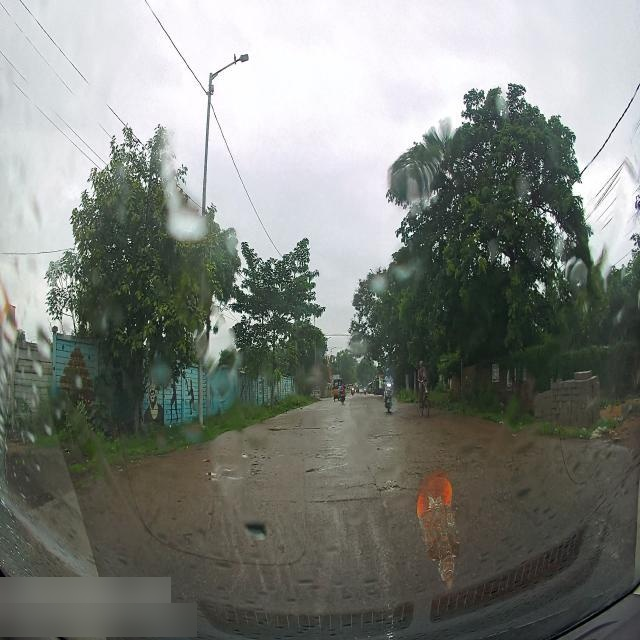pothole: (376, 482, 403, 497), (367, 434, 407, 442), (302, 464, 324, 477), (265, 426, 291, 434), (240, 454, 268, 459), (204, 477, 222, 483), (206, 469, 217, 476)
